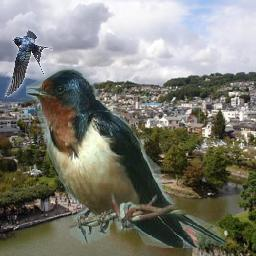Swallow: (26, 68, 226, 248), (5, 29, 54, 97)
